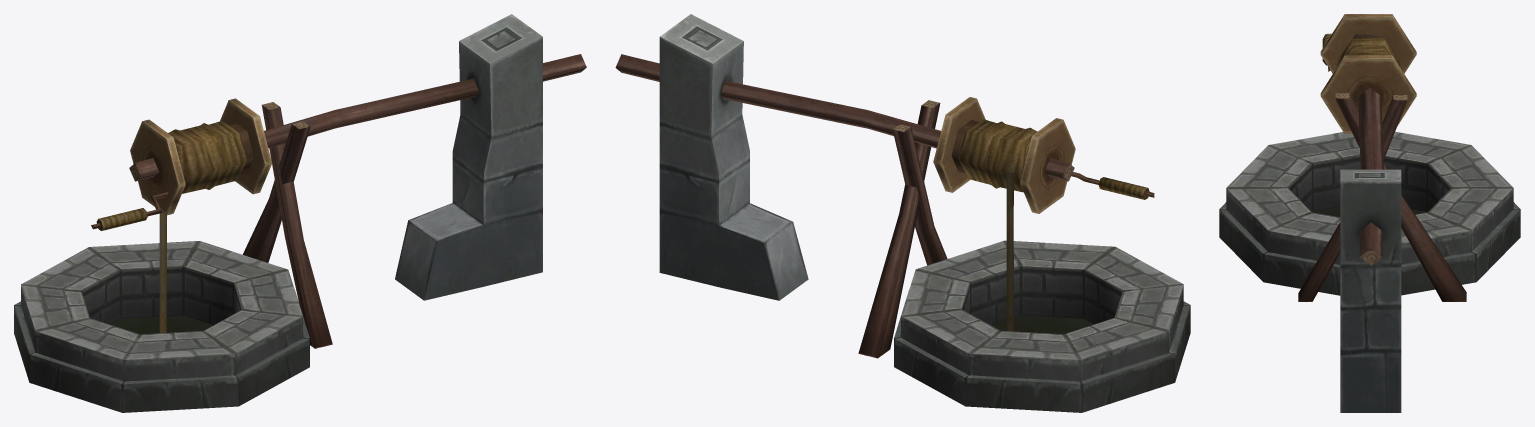
The model's file is q01a_thing_01.FBX.
The picture shows the model from 3 angles, left to right: view 1: azimuth 30°, elevation 25°; view 2: azimuth 150°, elevation 25°; view 3: azimuth 270°, elevation 25°; orthographic projection.
Visible parts, largest first — view 1: q01a_thing_01; view 2: q01a_thing_01; view 3: q01a_thing_01.
Part boxes in pixels (left/top/right/bottom): q01a_thing_01: left=14, top=14, right=586, bottom=412; q01a_thing_01: left=615, top=14, right=1190, bottom=412; q01a_thing_01: left=1219, top=14, right=1520, bottom=412.
Size of the model in its own units: 112 by 45.81 by 53.99.
